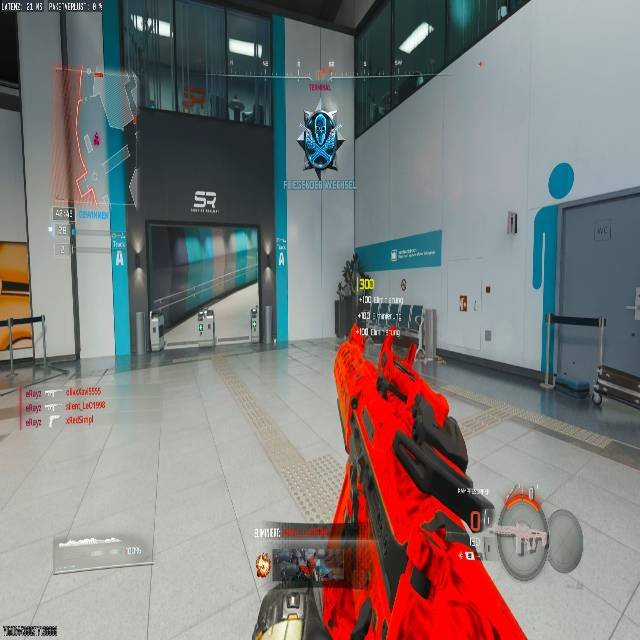player: (303, 104, 341, 179), (299, 551, 318, 582)
